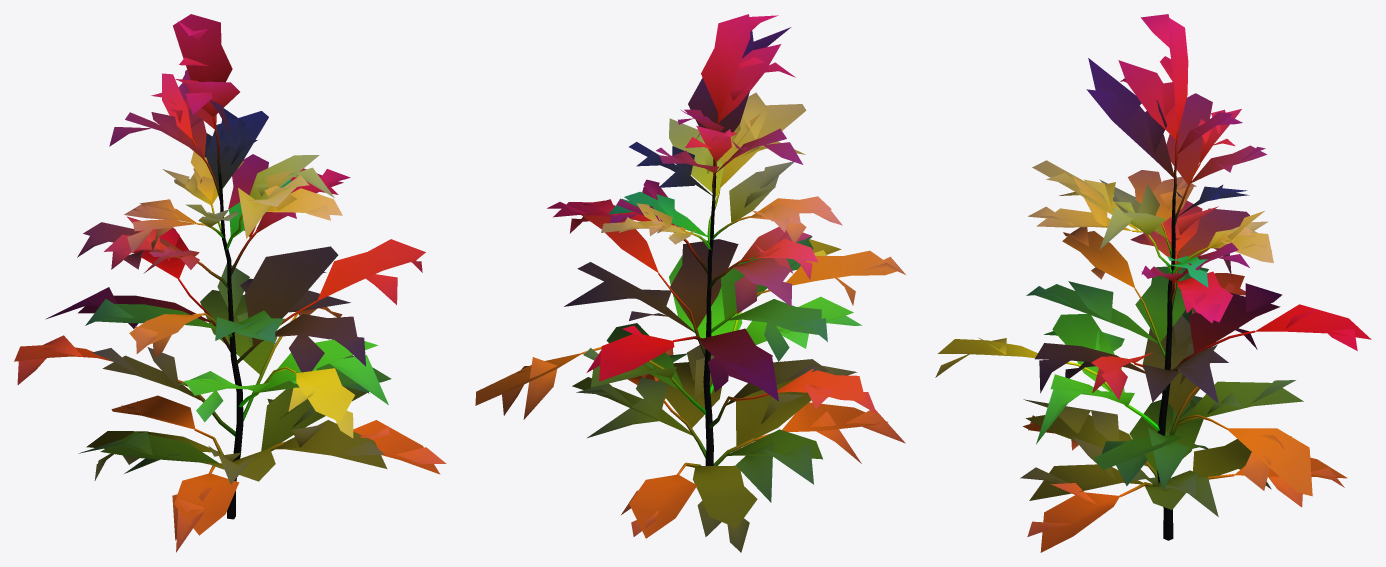
Rendered from SM_EuropeanBeech_S_02.fbx.
3 renders of one model, left to right at view 1: azimuth 30°, elevation 25°; view 2: azimuth 150°, elevation 25°; view 3: azimuth 270°, elevation 25°, orthographic. The views are drawn at different scales.
Visible parts, largest first — view 1: SM_EuropeanBeech_S_02_LOD0; view 2: SM_EuropeanBeech_S_02_LOD0; view 3: SM_EuropeanBeech_S_02_LOD0.
Part boxes in pixels (<box>): SM_EuropeanBeech_S_02_LOD0: <box>14,14,446,552</box>; SM_EuropeanBeech_S_02_LOD0: <box>475,14,905,552</box>; SM_EuropeanBeech_S_02_LOD0: <box>935,14,1371,552</box>.
Size of the model in its own units: 148 by 159 by 202.
